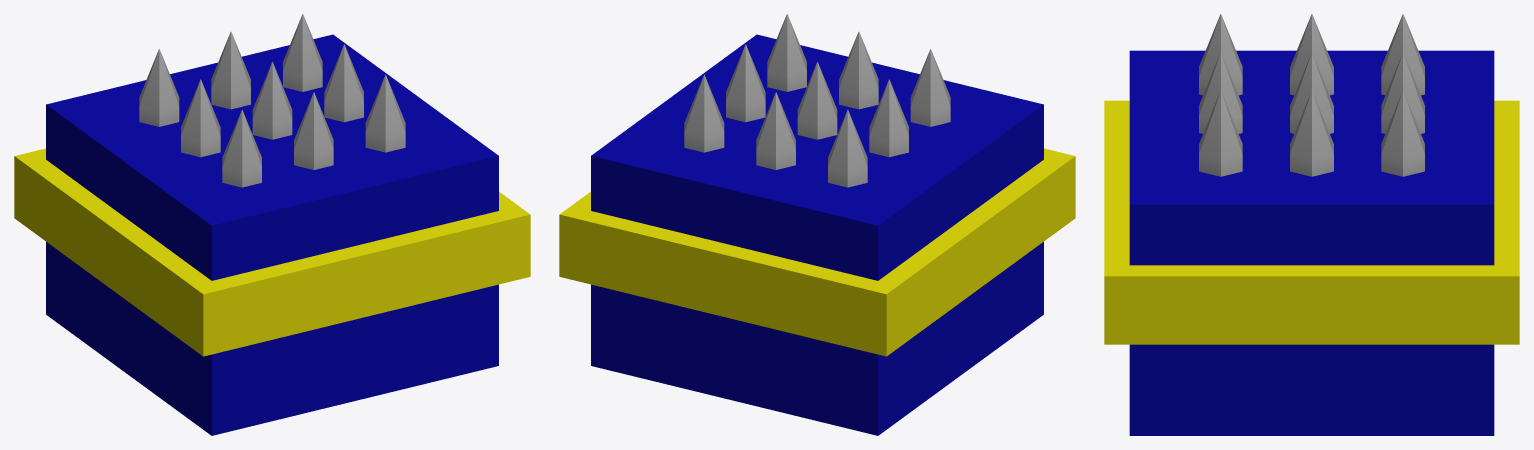
File: BM_Platform_Obstacle01_001.fbx
3 renders of one model, left to right at view 1: azimuth 30°, elevation 25°; view 2: azimuth 150°, elevation 25°; view 3: azimuth 270°, elevation 25°, orthographic. The views are drawn at different scales.
Visible parts, largest first — view 1: BM_Platform_Obstacle01_001, BM_Platform_Obstacle01_Emissive_001, BM_Platform_Pic03, BM_Platform_Pic07, BM_Platform_Pic05, BM_Platform_Pic09, BM_Platform_Pic06, BM_Platform_Pic04, BM_Platform_Pic01, BM_Platform_Pic08, BM_Platform_Pic02; view 2: BM_Platform_Obstacle01_001, BM_Platform_Obstacle01_Emissive_001, BM_Platform_Pic09, BM_Platform_Pic01, BM_Platform_Pic05, BM_Platform_Pic07, BM_Platform_Pic06, BM_Platform_Pic04, BM_Platform_Pic03, BM_Platform_Pic08, BM_Platform_Pic02; view 3: BM_Platform_Obstacle01_001, BM_Platform_Obstacle01_Emissive_001, BM_Platform_Pic06, BM_Platform_Pic09, BM_Platform_Pic03, BM_Platform_Pic08, BM_Platform_Pic04, BM_Platform_Pic02, BM_Platform_Pic07, BM_Platform_Pic05, BM_Platform_Pic01.
Part boxes in pixels (x1,y1,x2,y2): BM_Platform_Obstacle01_001: (46,34,498,435); BM_Platform_Obstacle01_Emissive_001: (14,148,530,356); BM_Platform_Pic03: (365,74,405,152); BM_Platform_Pic07: (139,49,179,126); BM_Platform_Pic05: (252,62,292,139); BM_Platform_Pic09: (283,14,322,91); BM_Platform_Pic06: (324,44,363,122); BM_Platform_Pic04: (181,79,220,157); BM_Platform_Pic01: (222,109,261,187); BM_Platform_Pic08: (211,32,250,109); BM_Platform_Pic02: (294,92,333,169); BM_Platform_Obstacle01_001: (591,34,1043,435); BM_Platform_Obstacle01_Emissive_001: (559,148,1075,356); BM_Platform_Pic09: (684,74,724,152); BM_Platform_Pic01: (910,49,950,126); BM_Platform_Pic05: (797,62,837,139); BM_Platform_Pic07: (828,109,867,187); BM_Platform_Pic06: (726,44,765,122); BM_Platform_Pic04: (869,79,908,157); BM_Platform_Pic03: (767,14,806,91); BM_Platform_Pic08: (756,92,795,169); BM_Platform_Pic02: (839,32,878,109); BM_Platform_Obstacle01_001: (1129,50,1494,435); BM_Platform_Obstacle01_Emissive_001: (1104,100,1519,344); BM_Platform_Pic06: (1290,91,1333,176); BM_Platform_Pic09: (1381,91,1424,176); BM_Platform_Pic03: (1199,91,1242,176); BM_Platform_Pic08: (1381,52,1424,133); BM_Platform_Pic04: (1290,14,1333,95); BM_Platform_Pic02: (1199,52,1242,133); BM_Platform_Pic07: (1381,14,1424,95); BM_Platform_Pic05: (1290,53,1333,133); BM_Platform_Pic01: (1199,14,1242,95).
Size of the model in its own units: 228 by 185 by 228.
